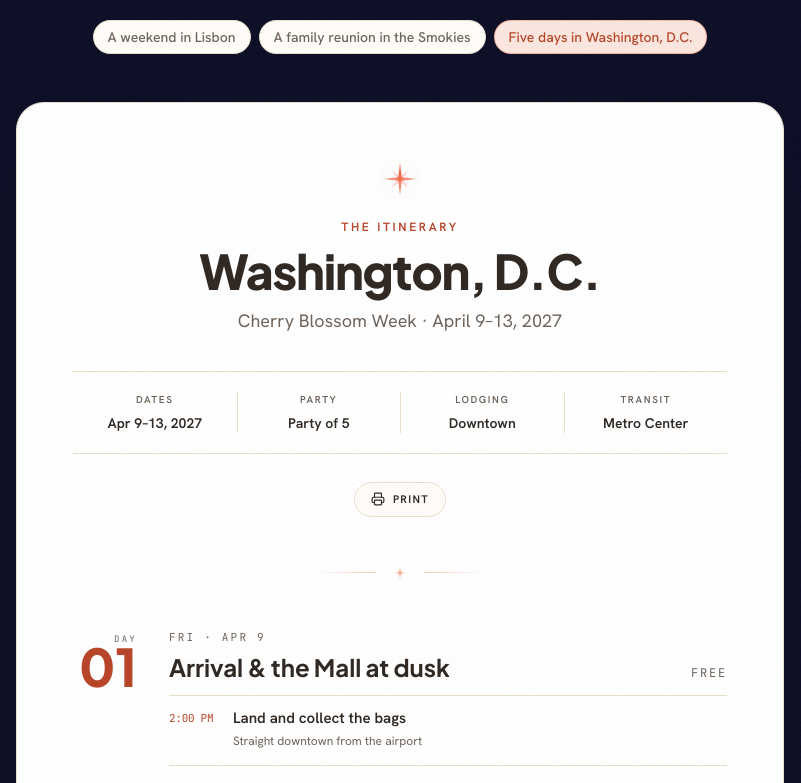
Test: SelectedPrintableItinerary › prints the trip on screen, not the one the page opened with
This screenshot has width=801, height=783.
Click the button "A weekend in Lisbon": (172, 37) left=92, top=20, right=250, bottom=54
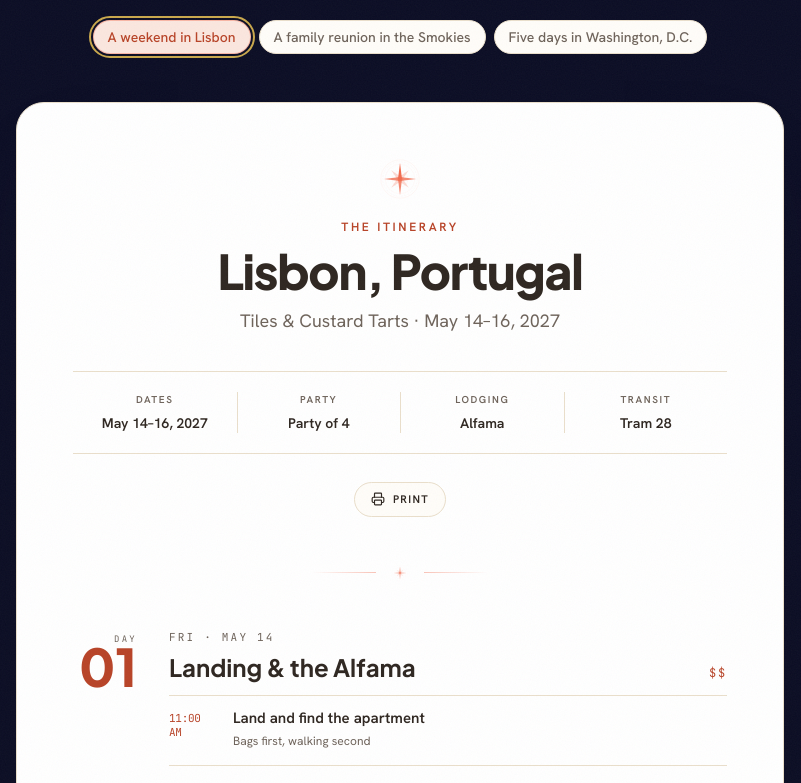
Expected: the text "Cherry Blossom Week" is gone
